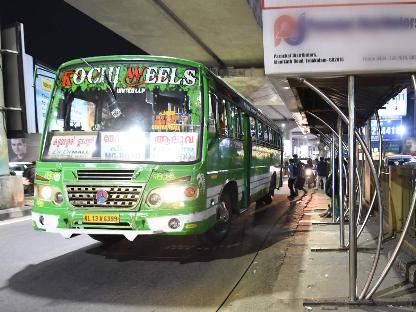bike: (299, 156, 315, 192)
bus: (31, 54, 285, 245)
